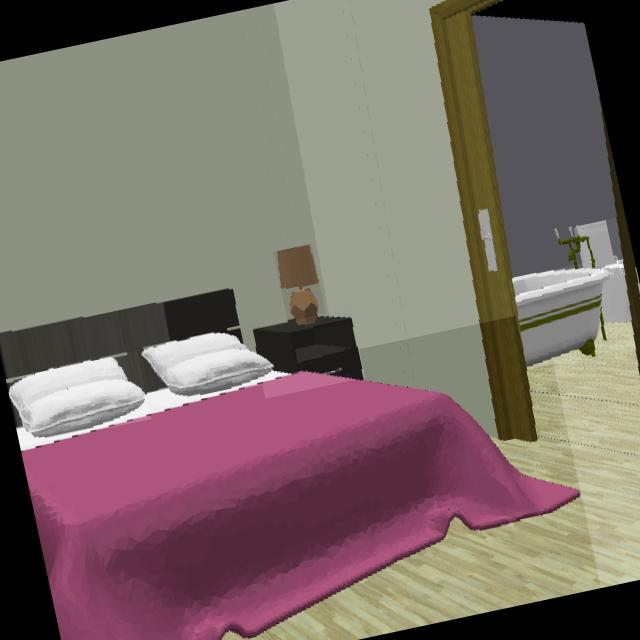bathtube: (512, 266, 622, 368)
bed: (16, 371, 581, 640)
lamp: (278, 246, 320, 326)
nighttable: (253, 317, 363, 378)
pillow: (10, 357, 145, 439), (142, 332, 274, 396)
toilet: (577, 221, 636, 329)
